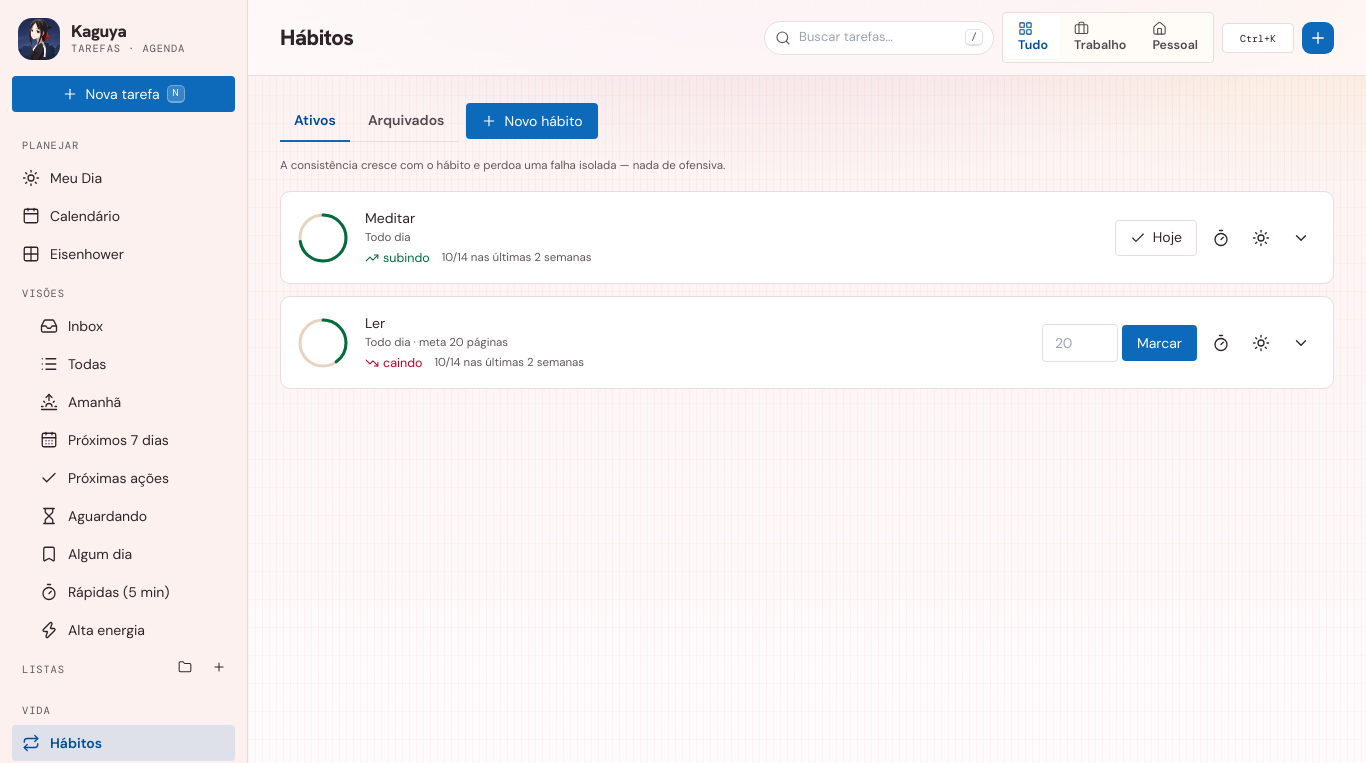
Test: Hábitos › Meu Dia e histórico do ano
The image size is (1366, 763).
Expected: the element "Meditar" is shown, [280,191,1334,284]
Step 1. Click the button named "Pôr Meditar no Meu Dia" → (1261, 238), box [1245,222,1277,254]
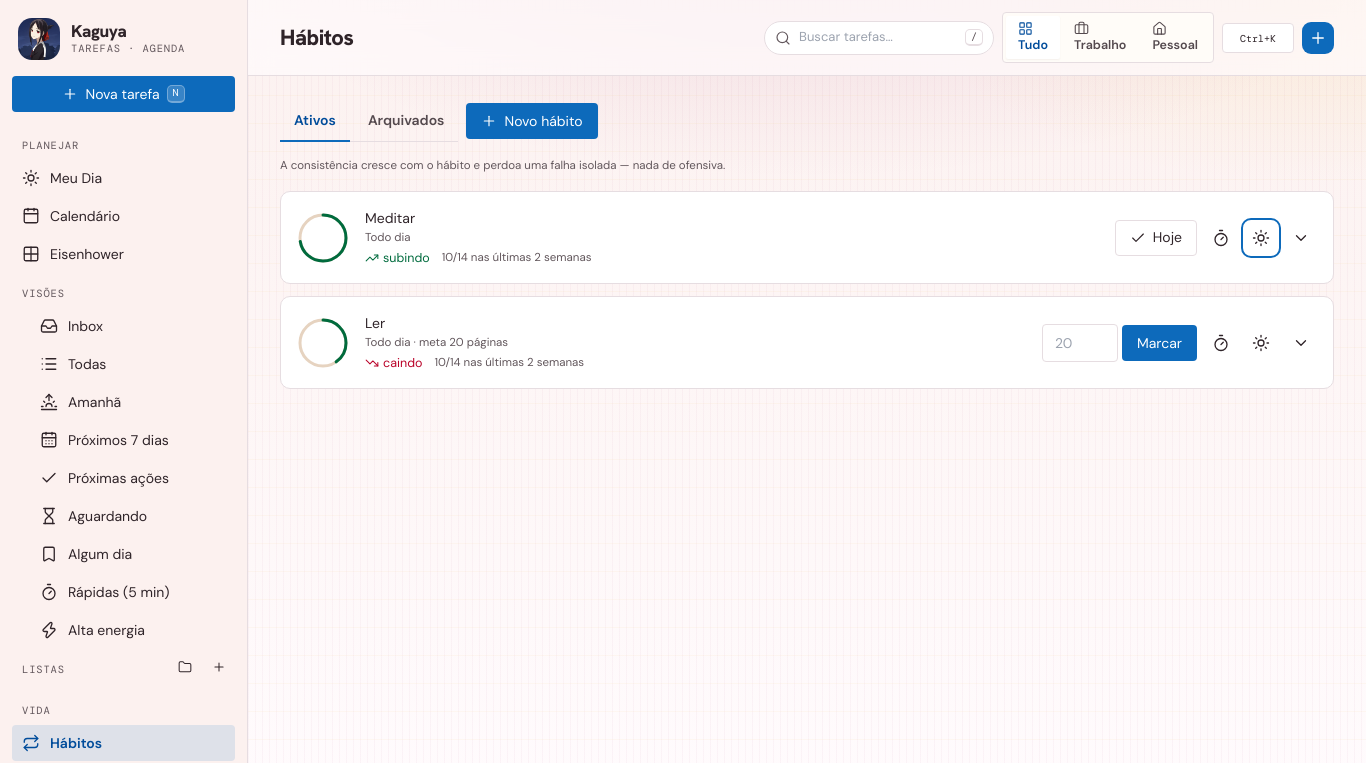
Step 2. Click the button named "Ver histórico de Meditar" → (1301, 238), box [1285,222,1317,254]
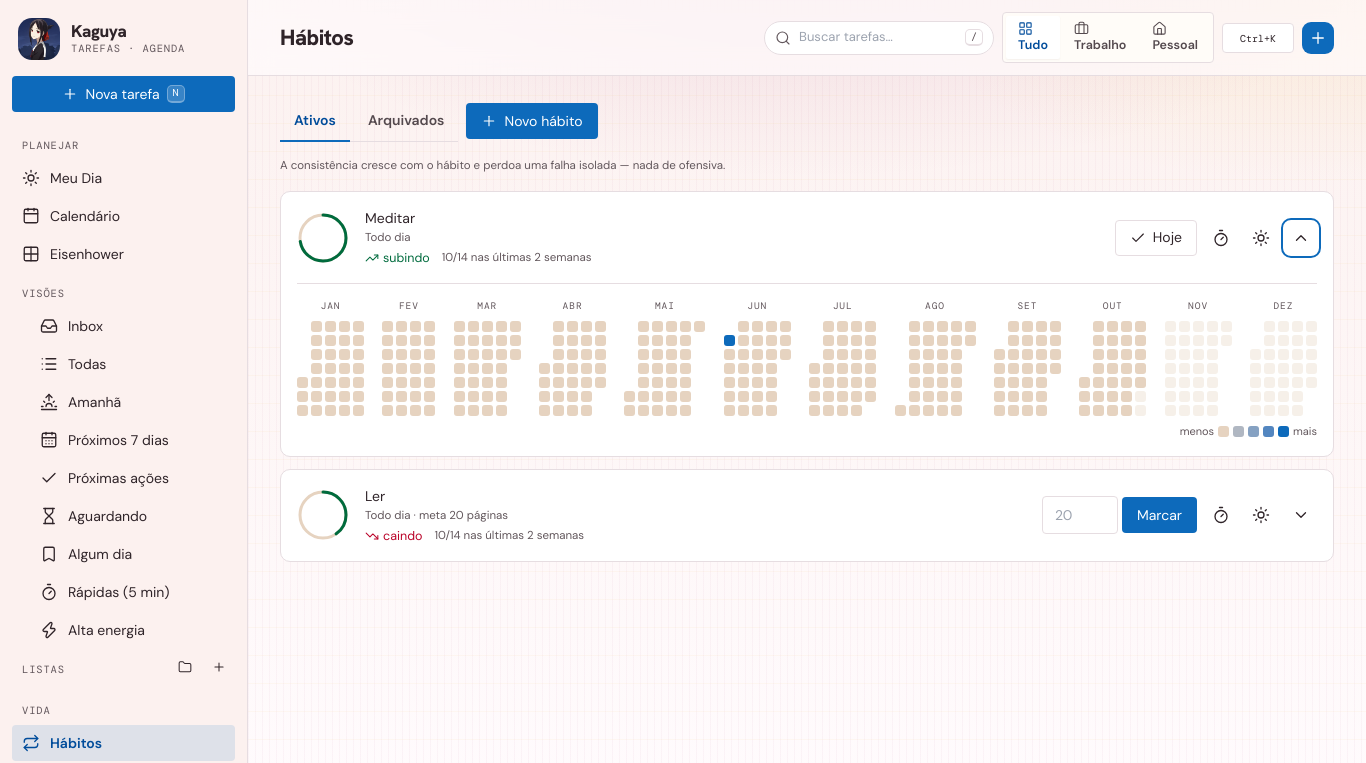
Now the picture named "Check-ins de Meditar" is shown, box [297,300,1317,416]
